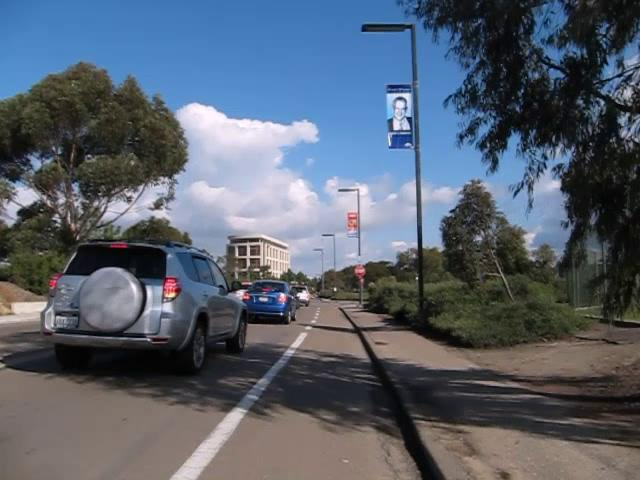stop: (353, 263, 365, 277)
